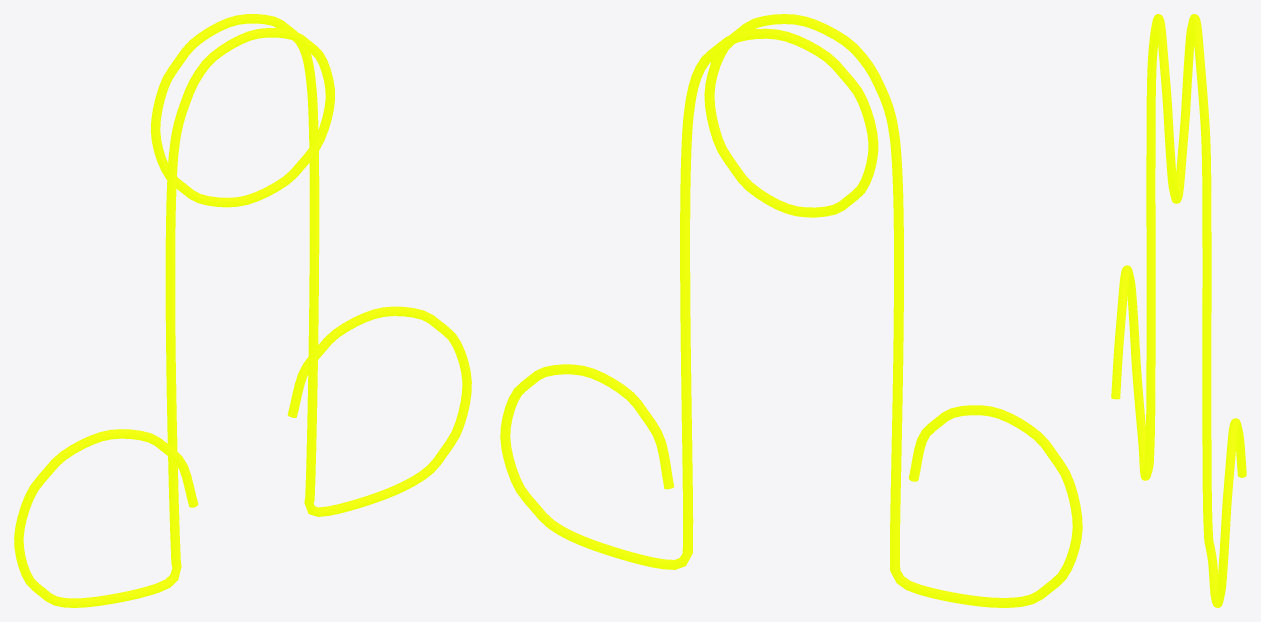
3 renders of one model, left to right at view 1: azimuth 30°, elevation 25°; view 2: azimuth 150°, elevation 25°; view 3: azimuth 270°, elevation 25°, orthographic. The views are drawn at different scales.
Parts seen in each view (by area): view 1: Tube; view 2: Tube; view 3: Tube.
Part boxes in pixels (x1=…): Tube: x1=14, y1=14, x2=471, y2=607; Tube: x1=500, y1=14, x2=1082, y2=607; Tube: x1=1111, y1=14, x2=1246, y2=607.
Size of the model in its own units: 6.1 by 6.13 by 1.5.
